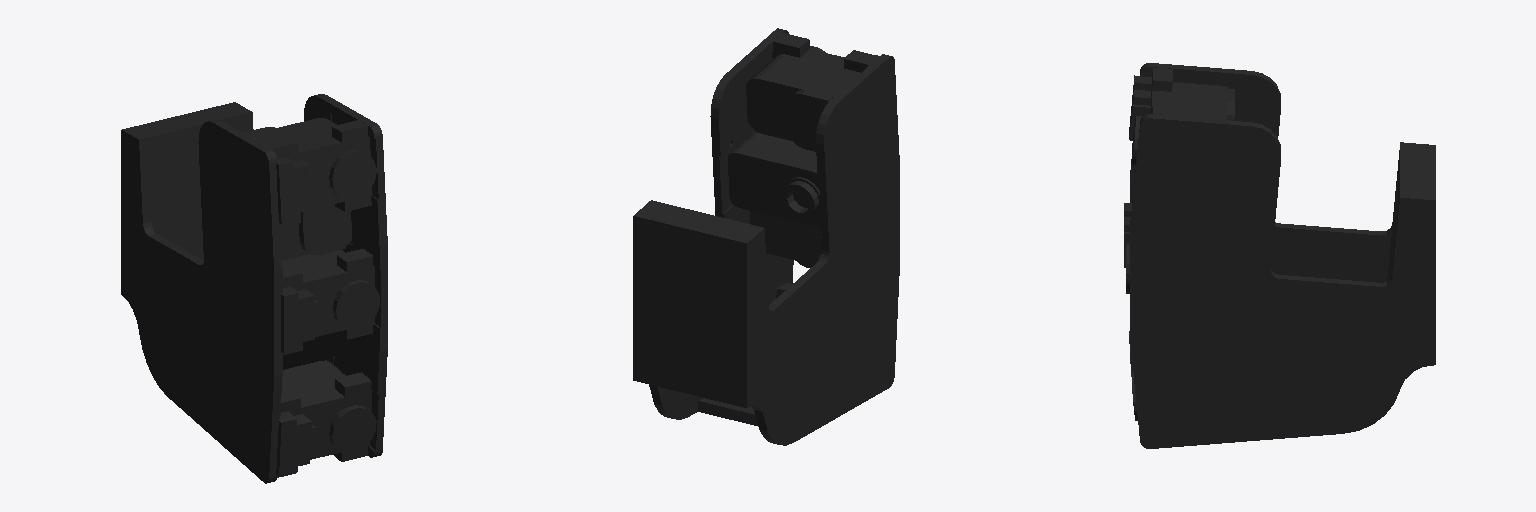
3 views of the same model, side by side, from view 1: azimuth 30°, elevation 25°; view 2: azimuth 150°, elevation 25°; view 3: azimuth 270°, elevation 25° (orthographic).
Visible parts, largest first — view 1: base_link; view 2: base_link; view 3: base_link.
Part boxes in pixels (x1,y1,x2,y2): base_link: (121, 94, 387, 483); base_link: (633, 28, 899, 445); base_link: (1124, 63, 1435, 448).
Bounding box in the file's own units: 0.0408 × 0.1135 × 0.0967.